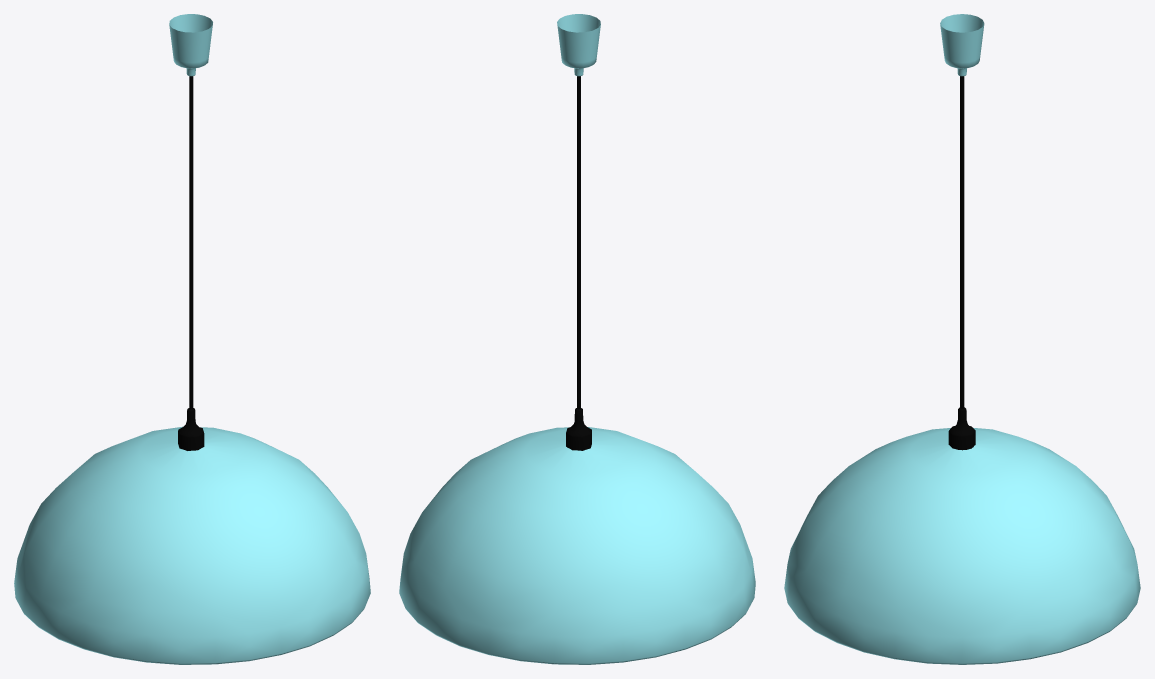
File: SM_Pendantlight_001_D.FBX
The picture shows the model from 3 angles, left to right: view 1: azimuth 30°, elevation 25°; view 2: azimuth 150°, elevation 25°; view 3: azimuth 270°, elevation 25°; orthographic projection.
Parts seen in each view (by area): view 1: polySurface1; view 2: polySurface1; view 3: polySurface1.
Boxes of the visible parts, x1,y1,x2,y2 form: polySurface1: (14,14,370,664); polySurface1: (399,14,755,664); polySurface1: (784,14,1140,664).
Bounding box in the file's own units: 60.44 × 106 × 60.44.
